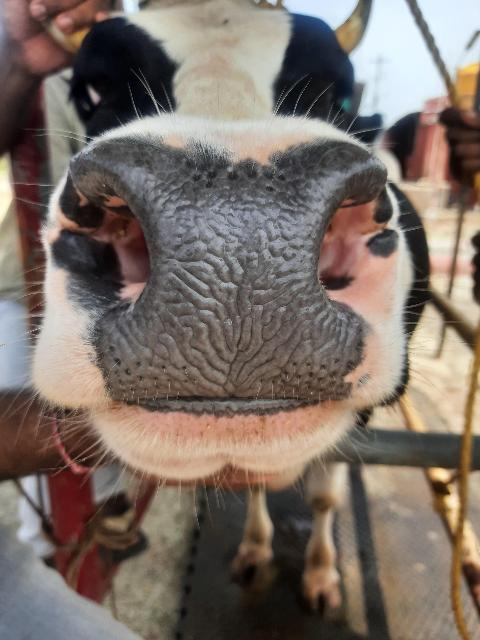Muzzle: (84, 142, 360, 412)
